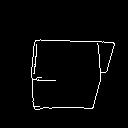cube: (19, 27, 118, 121)
